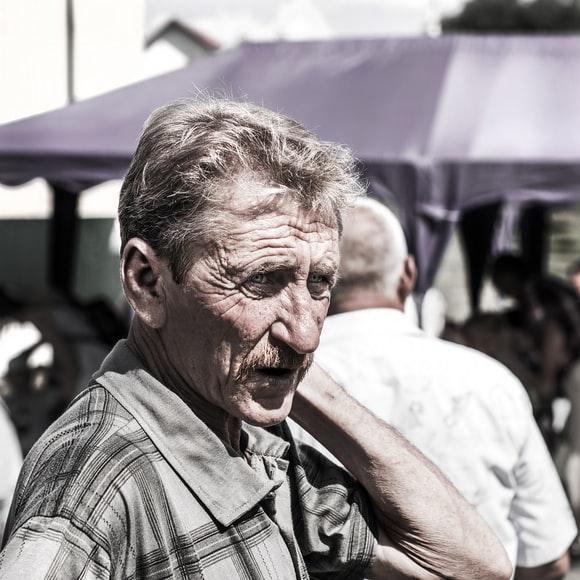Wrinkles: (217, 303, 245, 358), (230, 224, 317, 234), (242, 254, 287, 269), (221, 296, 247, 315), (253, 235, 310, 243), (213, 292, 239, 304), (195, 285, 225, 294), (251, 245, 295, 251), (306, 221, 333, 227)
